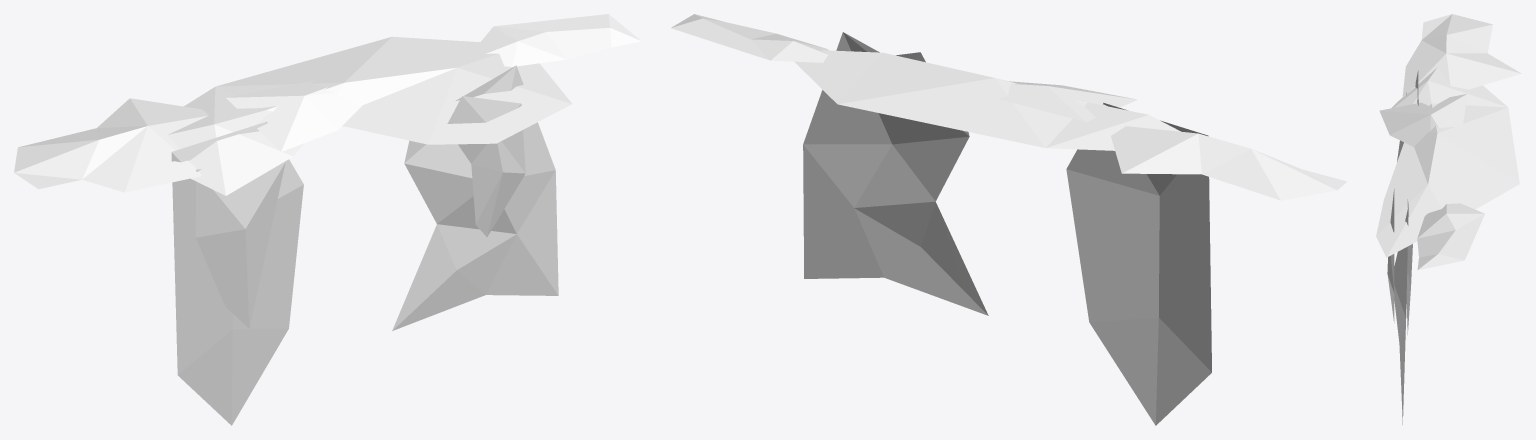
The model's file is SM_Env_Ivy_Draped_Flowers_01.glb.
3 renders of one model, left to right at view 1: azimuth 30°, elevation 25°; view 2: azimuth 150°, elevation 25°; view 3: azimuth 270°, elevation 25°, orthographic. The views are drawn at different scales.
Parts seen in each view (by area): view 1: SM_Env_Ivy_Draped_Flowers_01; view 2: SM_Env_Ivy_Draped_Flowers_01; view 3: SM_Env_Ivy_Draped_Flowers_01.
Part boxes in pixels (x1,y1,x2,y2): SM_Env_Ivy_Draped_Flowers_01: (14, 14, 641, 425); SM_Env_Ivy_Draped_Flowers_01: (671, 14, 1346, 425); SM_Env_Ivy_Draped_Flowers_01: (1376, 14, 1521, 424).
Bounding box in the file's own units: 3.18 × 1.5 × 0.7691.
Materials: 1 (1 with a texture image).
